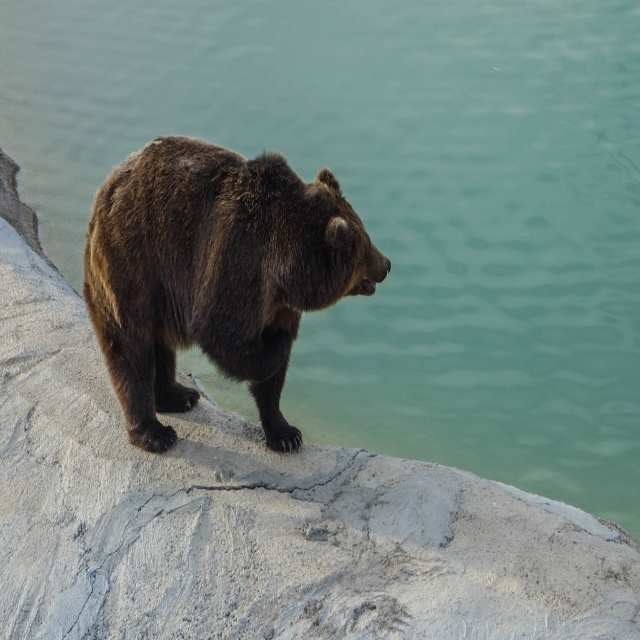Brown bear: (82, 132, 392, 452)
